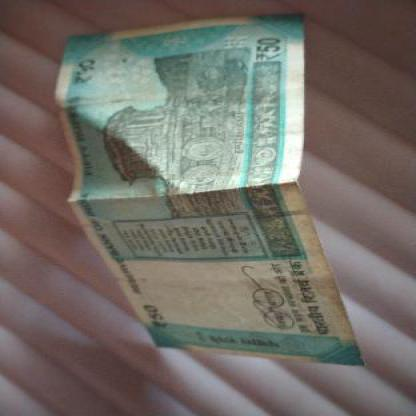New50Back: (60, 21, 368, 363)
